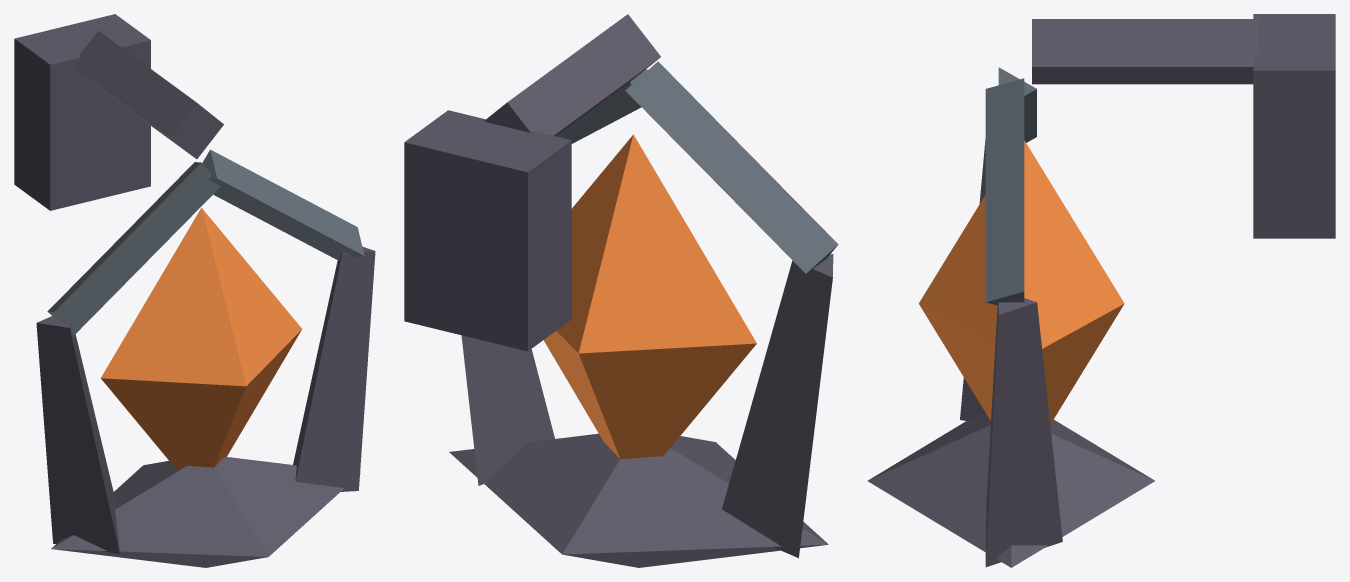
Rendered from Volcanic_Fixture.fbx.
The picture shows the model from 3 angles, left to right: view 1: azimuth 30°, elevation 25°; view 2: azimuth 150°, elevation 25°; view 3: azimuth 270°, elevation 25°; orthographic projection. The views are drawn at different scales.
Visible parts, largest first — view 1: Volcanic_Fixture; view 2: Volcanic_Fixture; view 3: Volcanic_Fixture.
Part boxes in pixels (x1=…): Volcanic_Fixture: x1=14, y1=14, x2=375, y2=567; Volcanic_Fixture: x1=404, y1=14, x2=838, y2=567; Volcanic_Fixture: x1=867, y1=14, x2=1335, y2=567.
Size of the model in its own units: 42.26 by 56.5 by 45.5.
